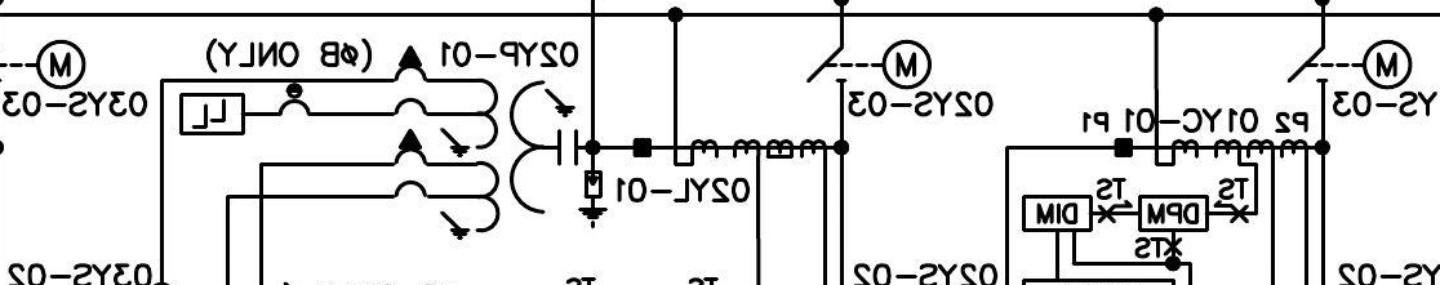115_1way_ds_w_motor: (1286, 38, 1414, 91), (805, 38, 933, 90)
115_cvt_1p: (391, 44, 579, 241)
115_la: (577, 170, 608, 229)
DIM: (1021, 194, 1094, 233)
DPM: (1137, 194, 1210, 233)
LL: (179, 93, 246, 136)
